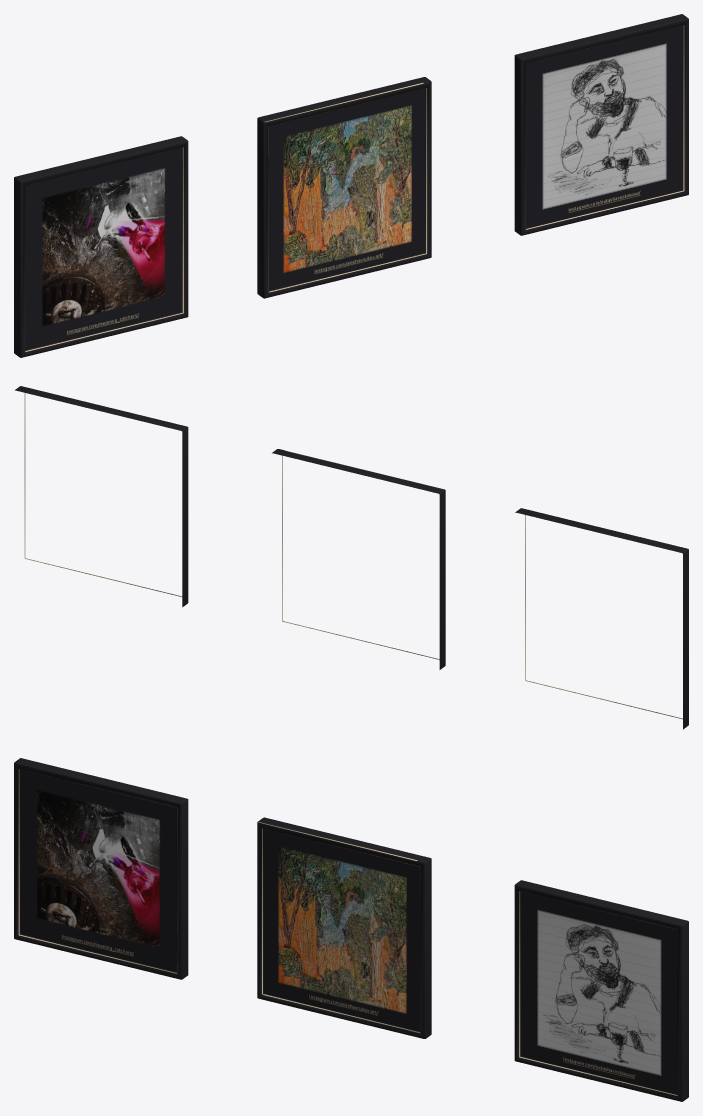
The model's file is kartin_3.glb.
3 renders of one model, top to bottom at view 1: azimuth 30°, elevation 25°; view 2: azimuth 150°, elevation 25°; view 3: azimuth 330°, elevation 25°, orthographic.
Visible parts, largest first — view 1: kvadrat001, kvadrat002, kvadrat; view 2: kvadrat002, kvadrat, kvadrat001; view 3: kvadrat002, kvadrat001, kvadrat.
Part boxes in pixels (bbox=[...]): kvadrat001: bbox=[14, 136, 188, 357]; kvadrat002: bbox=[514, 14, 688, 235]; kvadrat: bbox=[257, 77, 431, 298]; kvadrat002: bbox=[15, 386, 188, 607]; kvadrat: bbox=[272, 449, 445, 669]; kvadrat001: bbox=[515, 508, 688, 729]; kvadrat002: bbox=[514, 880, 688, 1101]; kvadrat001: bbox=[14, 758, 188, 979]; kvadrat: bbox=[257, 817, 431, 1038].
Bounding box in the file's own units: 59.25 × 14.96 × 0.9832.
Materials: 1 (1 with a texture image).
